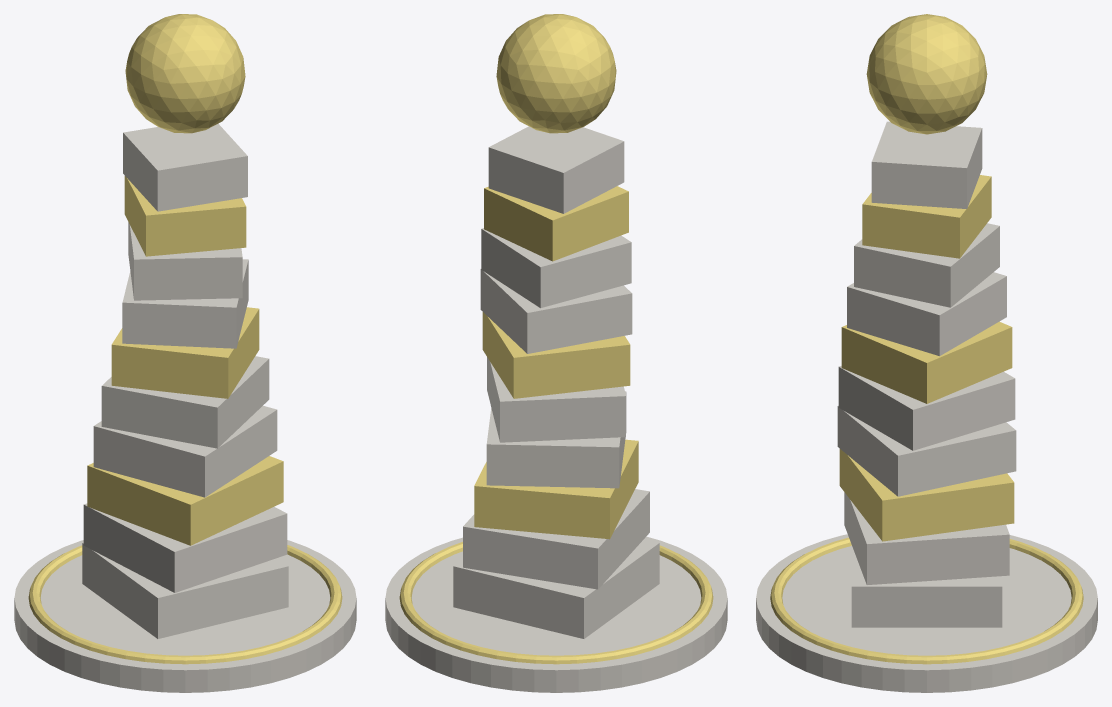
The model's file is ArteModerno_Dama.fbx.
3 renders of one model, left to right at view 1: azimuth 30°, elevation 25°; view 2: azimuth 150°, elevation 25°; view 3: azimuth 270°, elevation 25°, orthographic.
Visible parts, largest first — view 1: ArteModerno_Dama; view 2: ArteModerno_Dama; view 3: ArteModerno_Dama.
Boxes of the visible parts, x1,y1,x2,y2 form: ArteModerno_Dama: [14, 14, 356, 692]; ArteModerno_Dama: [385, 14, 727, 692]; ArteModerno_Dama: [756, 14, 1097, 692].
Size of the model in its own units: 0.68 by 1.32 by 0.68.
